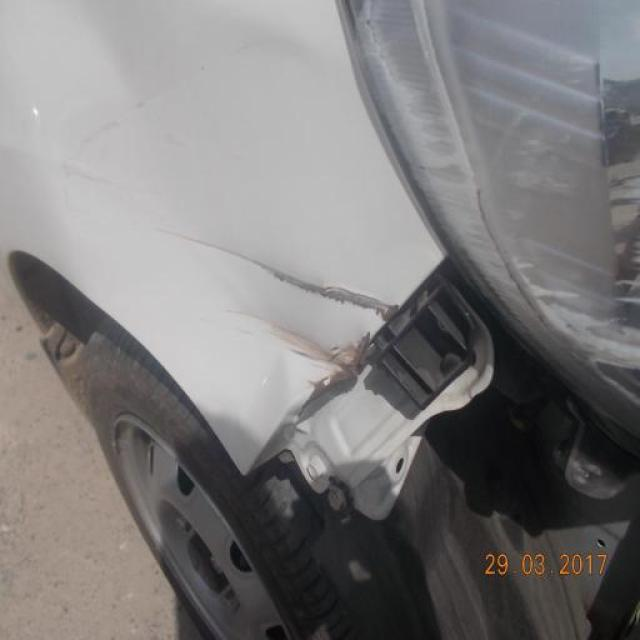dent: (46, 30, 323, 220)
scratch: (147, 221, 408, 327), (214, 296, 377, 388)
